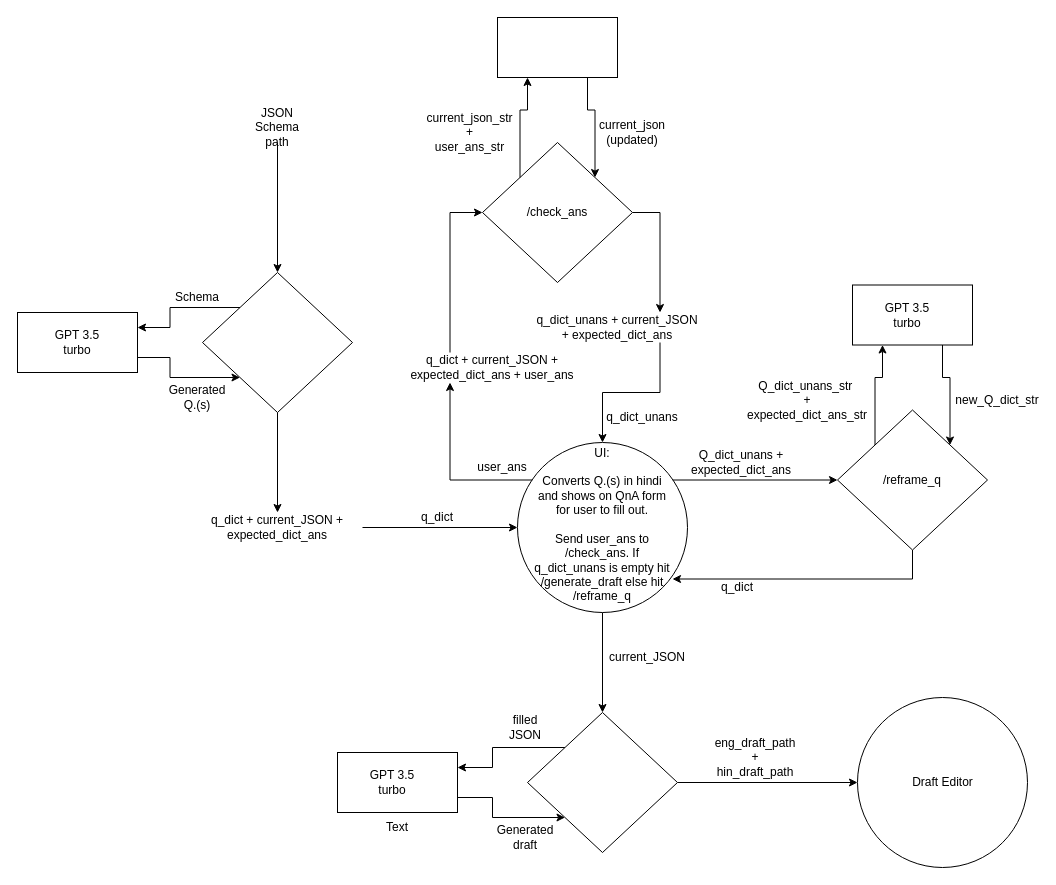
Some shapes in this 1056 by 885 pixel diagram are drawn without their labels. The centre of each missing label's shape, as x and y in pixels:
/generate_draft: point (602, 782)
/generate_q: point (277, 342)
GPT 4o: point (557, 47)
